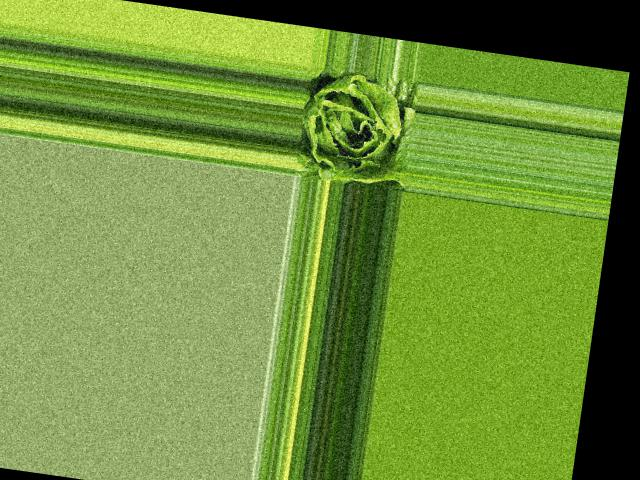lettuce: (295, 67, 420, 190)
